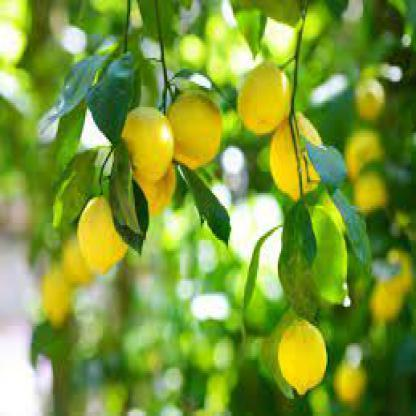lemon: (268, 110, 322, 204), (167, 92, 223, 170), (237, 58, 292, 134), (121, 106, 175, 183), (78, 195, 130, 274), (276, 320, 326, 396), (345, 130, 388, 182), (61, 232, 96, 286), (42, 270, 72, 330), (332, 358, 366, 403), (382, 249, 414, 296), (370, 278, 403, 322), (355, 75, 384, 120), (355, 171, 387, 211)
